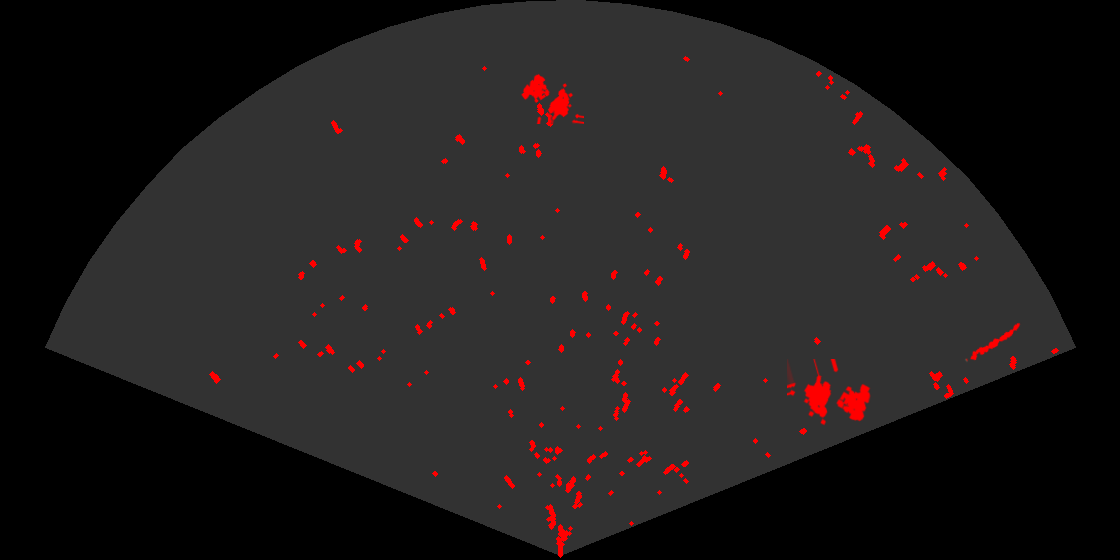cage: (787, 359, 872, 427), (519, 72, 584, 124)
chain: (964, 321, 1022, 363)
